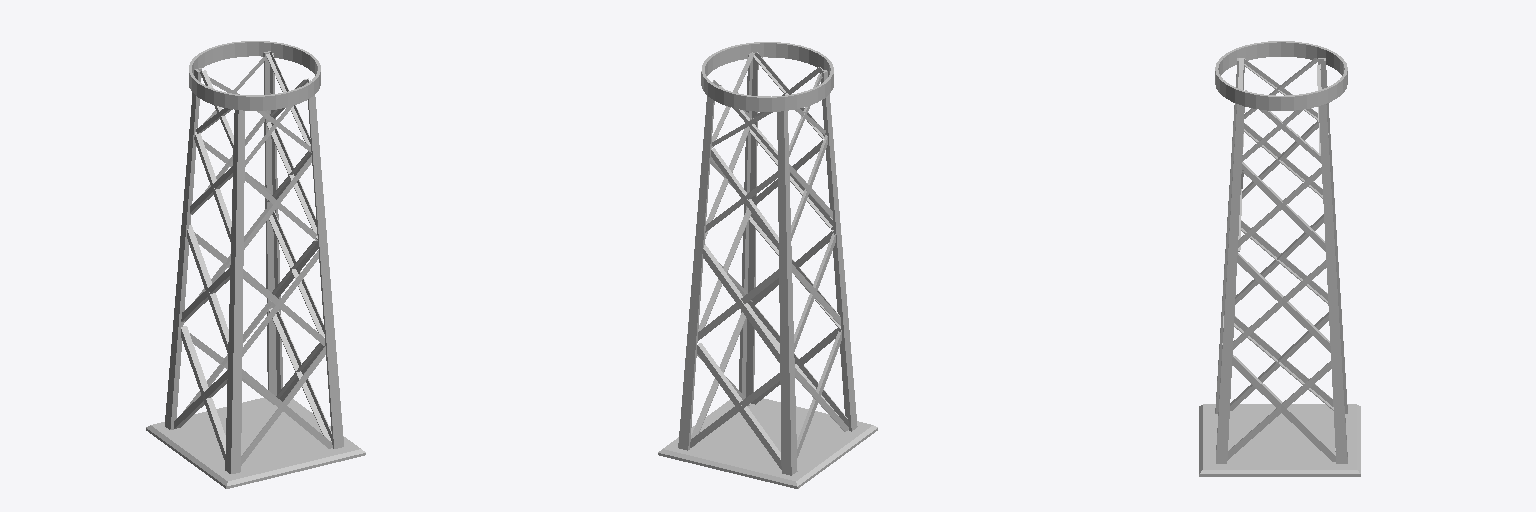
Rendered from tower.obj.
3 views of the same model, side by side, from view 1: azimuth 30°, elevation 25°; view 2: azimuth 150°, elevation 25°; view 3: azimuth 270°, elevation 25° (orthographic).
Parts seen in each view (by area): view 1: Tower_Cube.001; view 2: Tower_Cube.001; view 3: Tower_Cube.001.
Boxes of the visible parts, x1=… form: Tower_Cube.001: x1=146, y1=41, x2=365, y2=488; Tower_Cube.001: x1=658, y1=42, x2=877, y2=488; Tower_Cube.001: x1=1199, y1=41, x2=1360, y2=476.
Bounding box in the file's own units: 2 × 5.11 × 2.